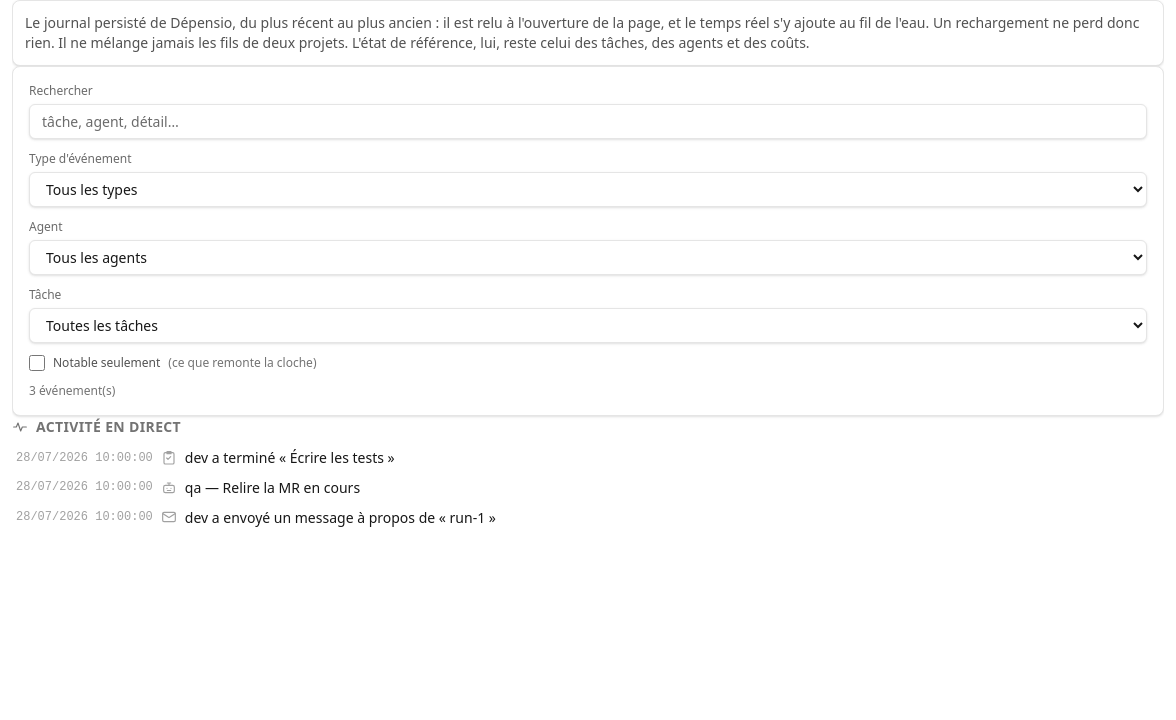
it: la page Journal › ne garde que le notable, sur le filtre de la cloche
Click the checkbox labelled "Notable seulement (ce que remonte la cloche)" at (37,363), box [29,355,45,371]
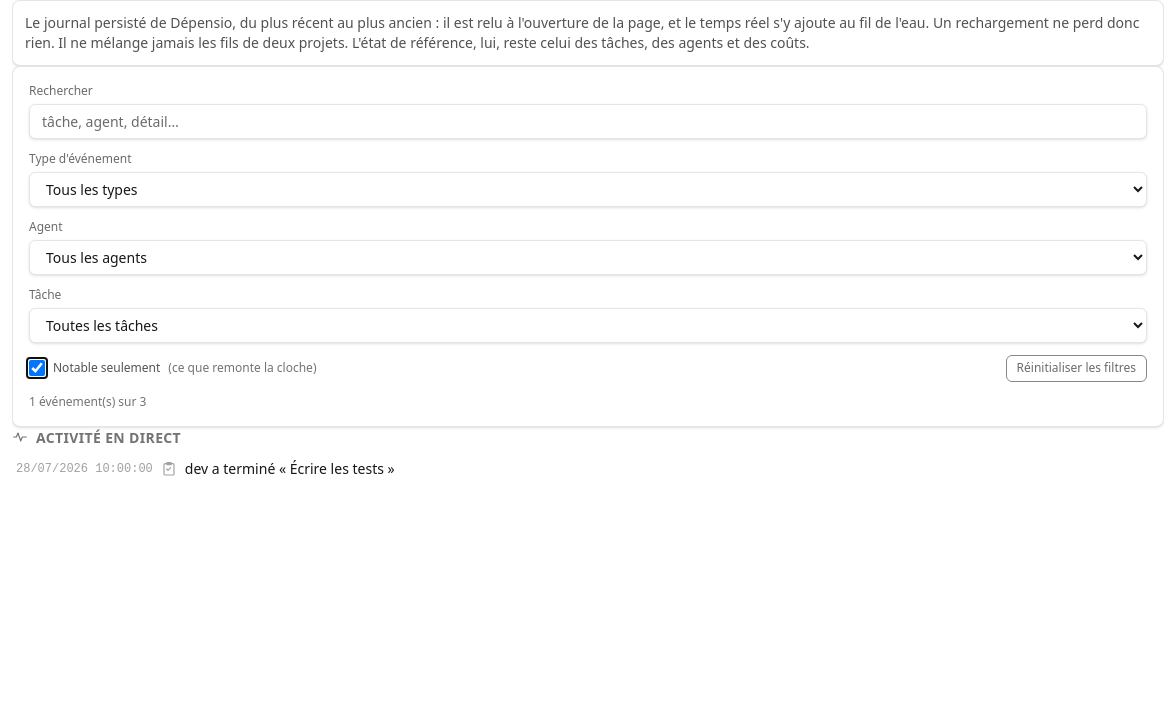
Expected: the number of list items is 1, [12,456,1164,482]
